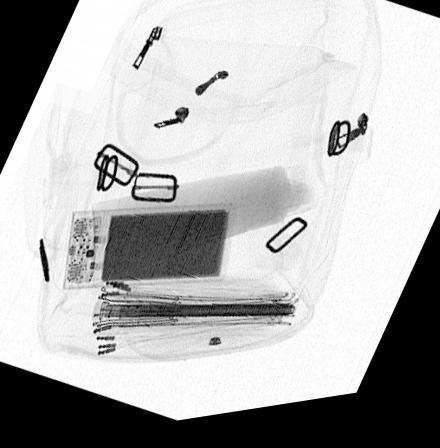Powerbank: (63, 208, 235, 291)
